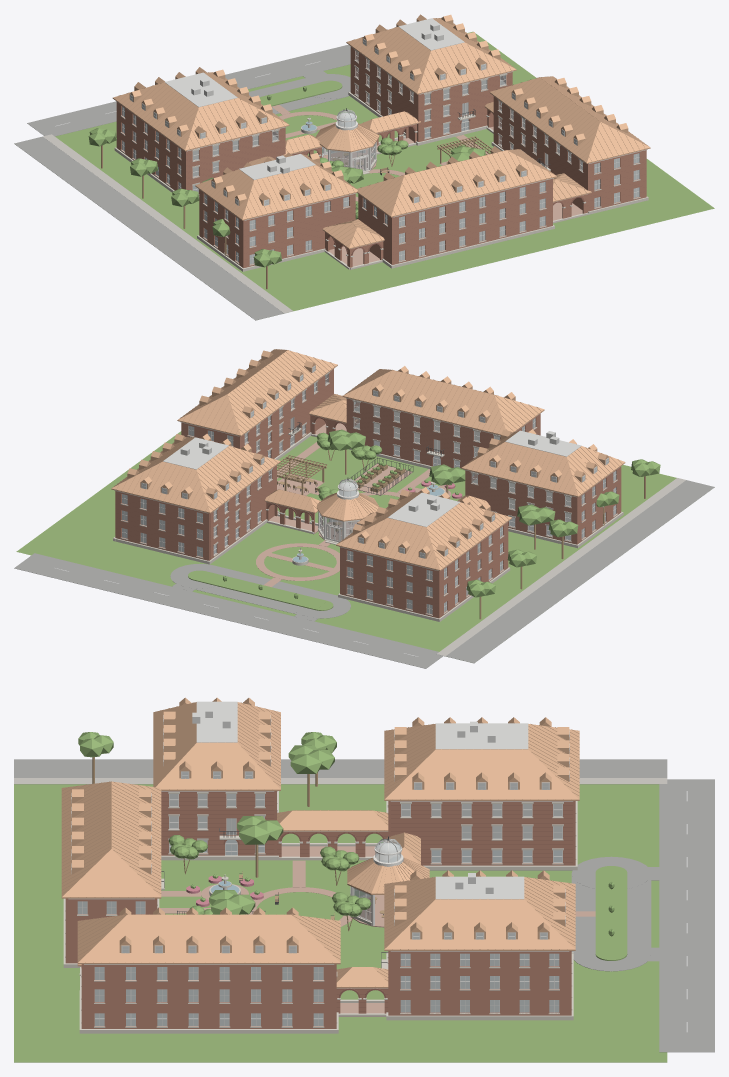
File: clay-garden-court-senior-residence-clay-v006.glb
3 views of the same model, one above another, from view 1: azimuth 30°, elevation 25°; view 2: azimuth 150°, elevation 25°; view 3: azimuth 270°, elevation 25° (orthographic). The views are drawn at different scales.
Parts seen in each view (by area): view 1: CLAY_ROOF, CLAY_WALL, CLAY_LAWN, CLAY_FOUNDATION, CLAY_TRIM, CLAY_GLASS, CLAY_STONE, CLAY_MEMBRANE, CLAY_PLANTING, CLAY_CONCRETE, CLAY_SAND, CLAY_FLOOR (+1 smaller); view 2: CLAY_ROOF, CLAY_WALL, CLAY_LAWN, CLAY_FOUNDATION, CLAY_TRIM, CLAY_GLASS, CLAY_STONE, CLAY_PLANTING, CLAY_SAND, CLAY_MEMBRANE, CLAY_CONCRETE, CLAY_TIMBER (+2 smaller); view 3: CLAY_LAWN, CLAY_ROOF, CLAY_WALL, CLAY_FOUNDATION, CLAY_TRIM, CLAY_GLASS, CLAY_STONE, CLAY_PLANTING, CLAY_MEMBRANE, CLAY_JOINT, CLAY_SAND, CLAY_CONCRETE (+2 smaller).
Part boxes in pixels (x1=…): CLAY_ROOF: x1=112, y1=14, x2=650, y2=249; CLAY_WALL: x1=116, y1=46, x2=646, y2=268; CLAY_LAWN: x1=55, y1=31, x2=714, y2=311; CLAY_FOUNDATION: x1=14, y1=44, x2=513, y2=320; CLAY_TRIM: x1=122, y1=38, x2=647, y2=264; CLAY_GLASS: x1=122, y1=39, x2=639, y2=264; CLAY_STONE: x1=114, y1=49, x2=648, y2=271; CLAY_MEMBRANE: x1=55, y1=18, x2=464, y2=179; CLAY_PLANTING: x1=88, y1=86, x2=485, y2=267; CLAY_CONCRETE: x1=43, y1=134, x2=292, y2=313; CLAY_SAND: x1=271, y1=104, x2=582, y2=269; CLAY_FLOOR: x1=193, y1=59, x2=582, y2=176; CLAY_ROOF: x1=111, y1=349, x2=625, y2=570; CLAY_WALL: x1=115, y1=369, x2=621, y2=618; CLAY_LAWN: x1=16, y1=431, x2=676, y2=651; CLAY_FOUNDATION: x1=14, y1=425, x2=714, y2=668; CLAY_TRIM: x1=114, y1=365, x2=619, y2=614; CLAY_GLASS: x1=122, y1=367, x2=616, y2=614; CLAY_STONE: x1=113, y1=372, x2=623, y2=621; CLAY_PLANTING: x1=223, y1=429, x2=660, y2=598; CLAY_SAND: x1=256, y1=423, x2=453, y2=586; CLAY_MEMBRANE: x1=54, y1=430, x2=581, y2=656; CLAY_CONCRETE: x1=437, y1=478, x2=685, y2=656; CLAY_TIMBER: x1=225, y1=449, x2=645, y2=619; CLAY_LAWN: x1=14, y1=784, x2=667, y2=1062; CLAY_ROOF: x1=61, y1=697, x2=579, y2=988; CLAY_WALL: x1=65, y1=791, x2=575, y2=1028; CLAY_FOUNDATION: x1=14, y1=759, x2=714, y2=1052; CLAY_TRIM: x1=68, y1=715, x2=573, y2=1026; CLAY_GLASS: x1=77, y1=772, x2=562, y2=1025; CLAY_STONE: x1=63, y1=791, x2=577, y2=1033; CLAY_PLANTING: x1=78, y1=732, x2=614, y2=936; CLAY_MEMBRANE: x1=192, y1=701, x2=687, y2=1032; CLAY_JOINT: x1=81, y1=792, x2=572, y2=1011; CLAY_SAND: x1=160, y1=846, x2=595, y2=1016; CLAY_CONCRETE: x1=14, y1=778, x2=667, y2=784.
Size of the model in its own units: 90 by 15.05 by 88.
